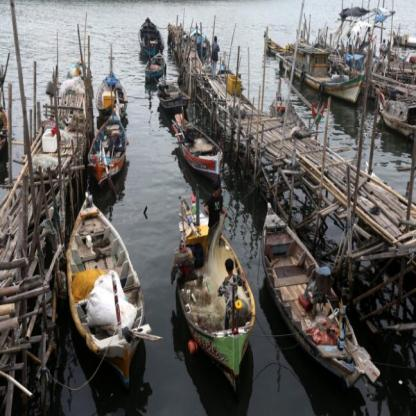fishing boat: (264, 223, 351, 347), (181, 212, 243, 369), (75, 209, 134, 340), (281, 51, 358, 94), (178, 115, 216, 174), (96, 115, 125, 181), (138, 17, 162, 52), (142, 57, 168, 78), (160, 82, 183, 105)
